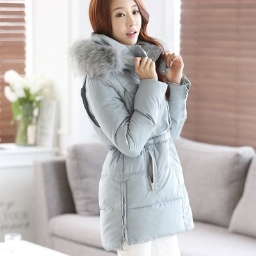face: (86, 1, 164, 47)
